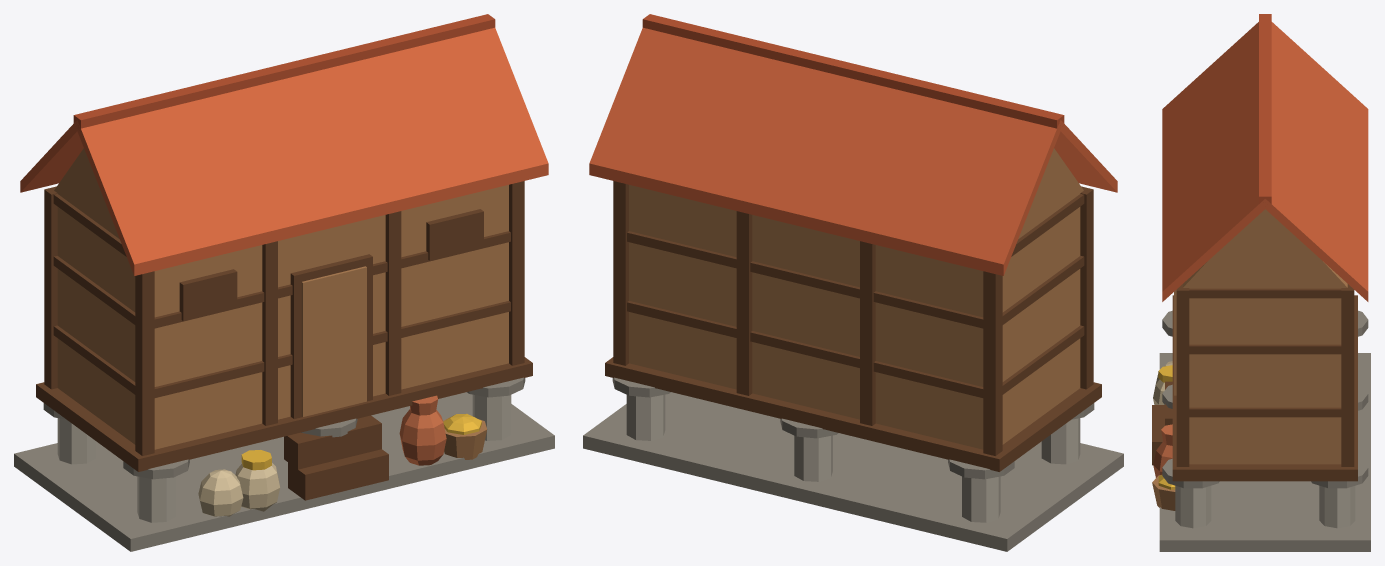
File: granary.glb
3 renders of one model, left to right at view 1: azimuth 30°, elevation 25°; view 2: azimuth 150°, elevation 25°; view 3: azimuth 270°, elevation 25°, orthographic. The views are drawn at different scales.
Parts seen in each view (by area): view 1: granary; view 2: granary; view 3: granary.
Boxes of the visible parts, x1,y1,x2,y2 form: granary: (14, 14, 554, 551); granary: (583, 14, 1123, 551); granary: (1152, 14, 1370, 551).
Size of the model in its own units: 1.72 by 1.52 by 0.85.
